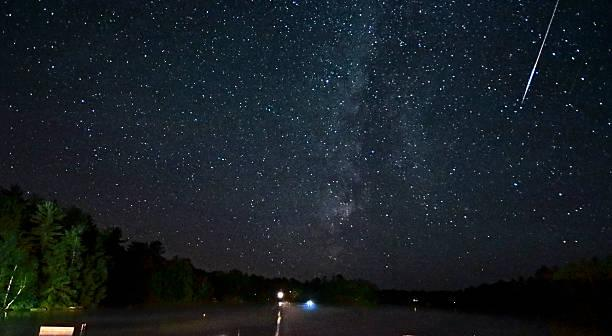meteor: (514, 89, 536, 112)
